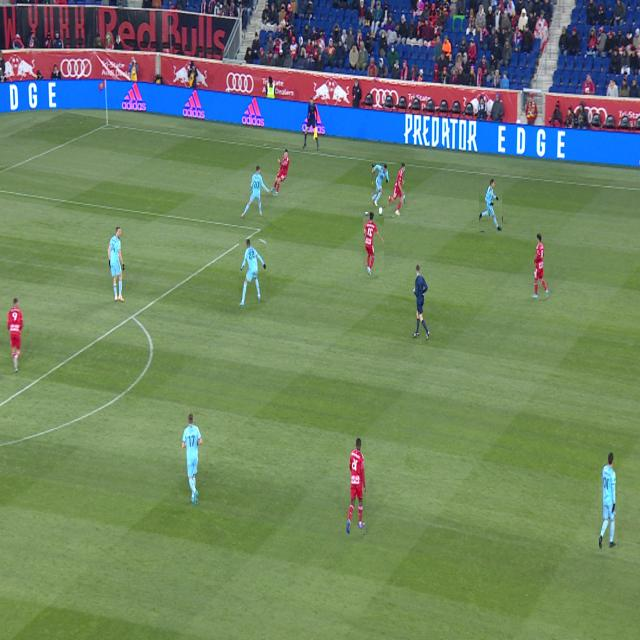football: (379, 208, 383, 216)
player: (182, 412, 203, 505), (347, 439, 366, 534), (599, 453, 617, 549), (240, 240, 266, 306), (241, 165, 271, 218), (364, 212, 384, 276), (108, 227, 125, 302), (7, 298, 24, 372), (531, 233, 549, 298), (480, 180, 502, 231), (387, 163, 405, 216), (271, 149, 290, 196), (372, 164, 389, 206)
referee: (412, 264, 430, 340)
